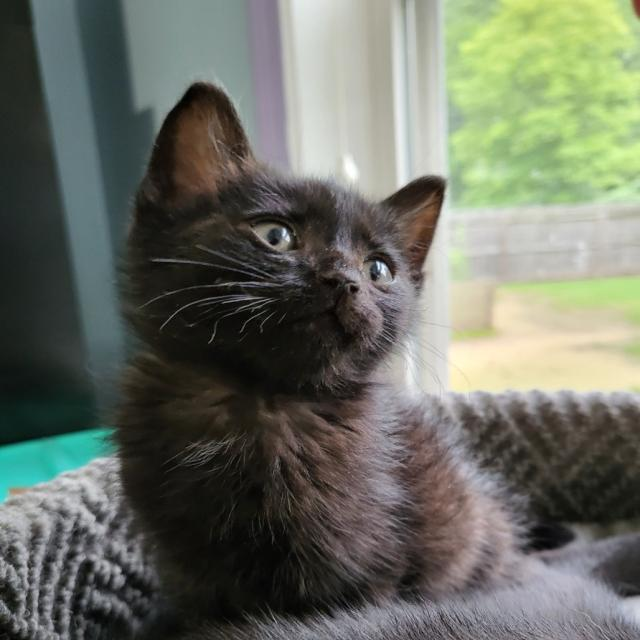bombay_cat: (108, 76, 455, 413)
